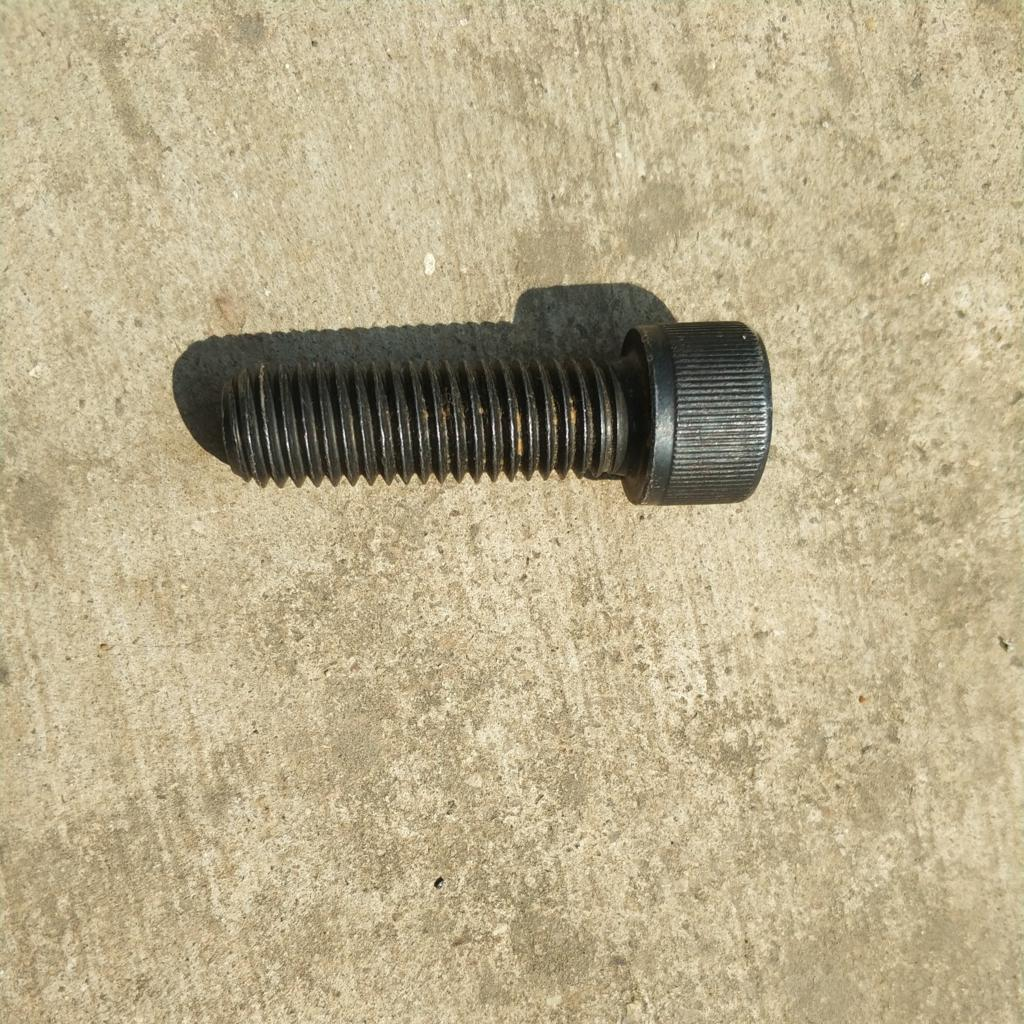screwtype1black: (219, 316, 770, 515)
